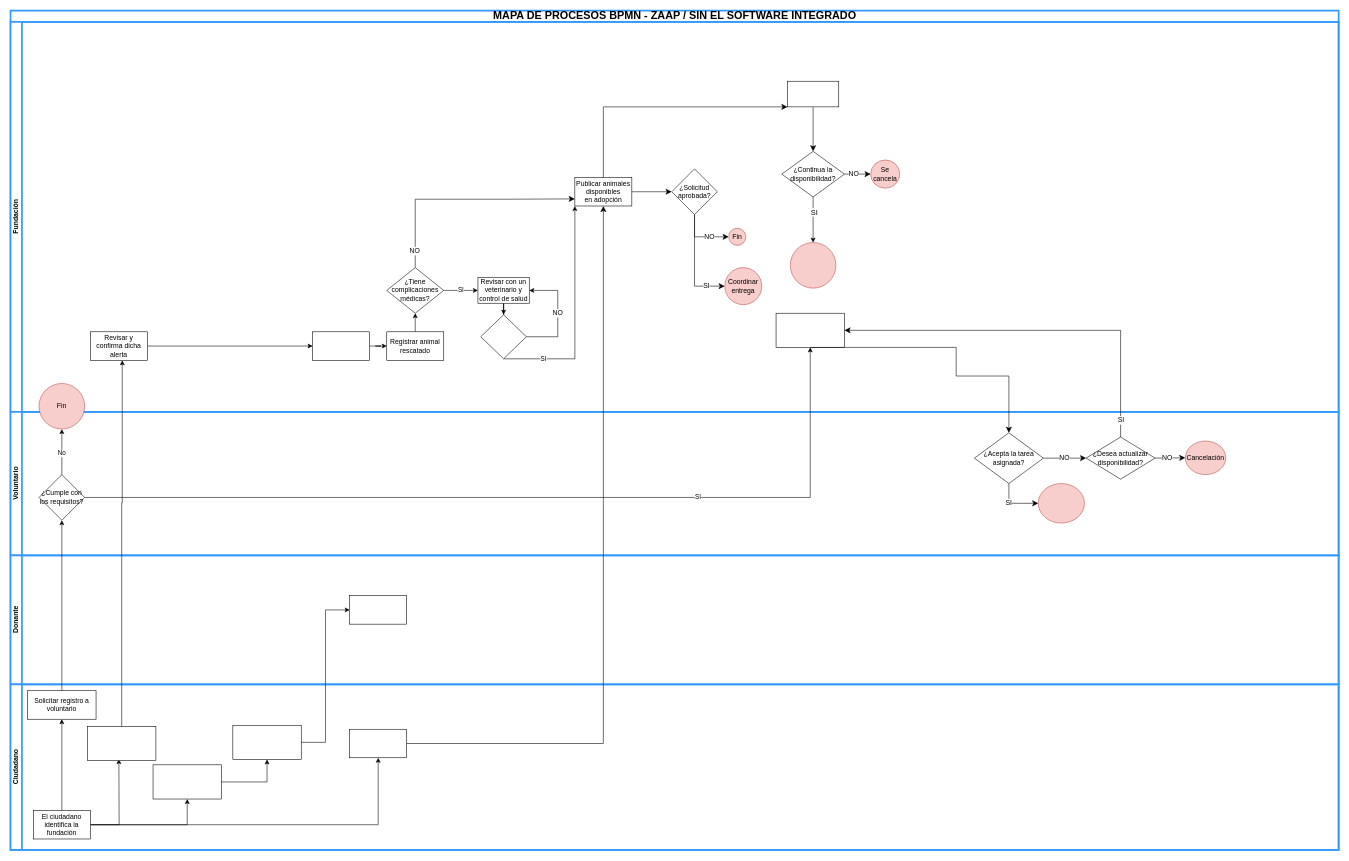
Some shapes in this 1349 by 861 pixel diagram are drawn without their labels. Each missing label, with the centre of its shape:
Asignar tareas disponibles a voluntario: the point at 809,330
Consultar animal disponible en adopción: the point at 378,743
Contacta a la fundación para mas información: the point at 186,781
Coordinar disponibilidad: the point at 1061,503
Crear campaña o evento: the point at 813,94
Informa que tipo de donacion hara: the point at 266,742
Reportar una alerta (foto + direccion): the point at 121,743
Rescatar el animal reportado: the point at 341,345
Se lleva acabo la campaña: the point at 813,265
Seleccionar registro a donante: the point at 378,609
¿Mejoró su condición?: the point at 503,336
